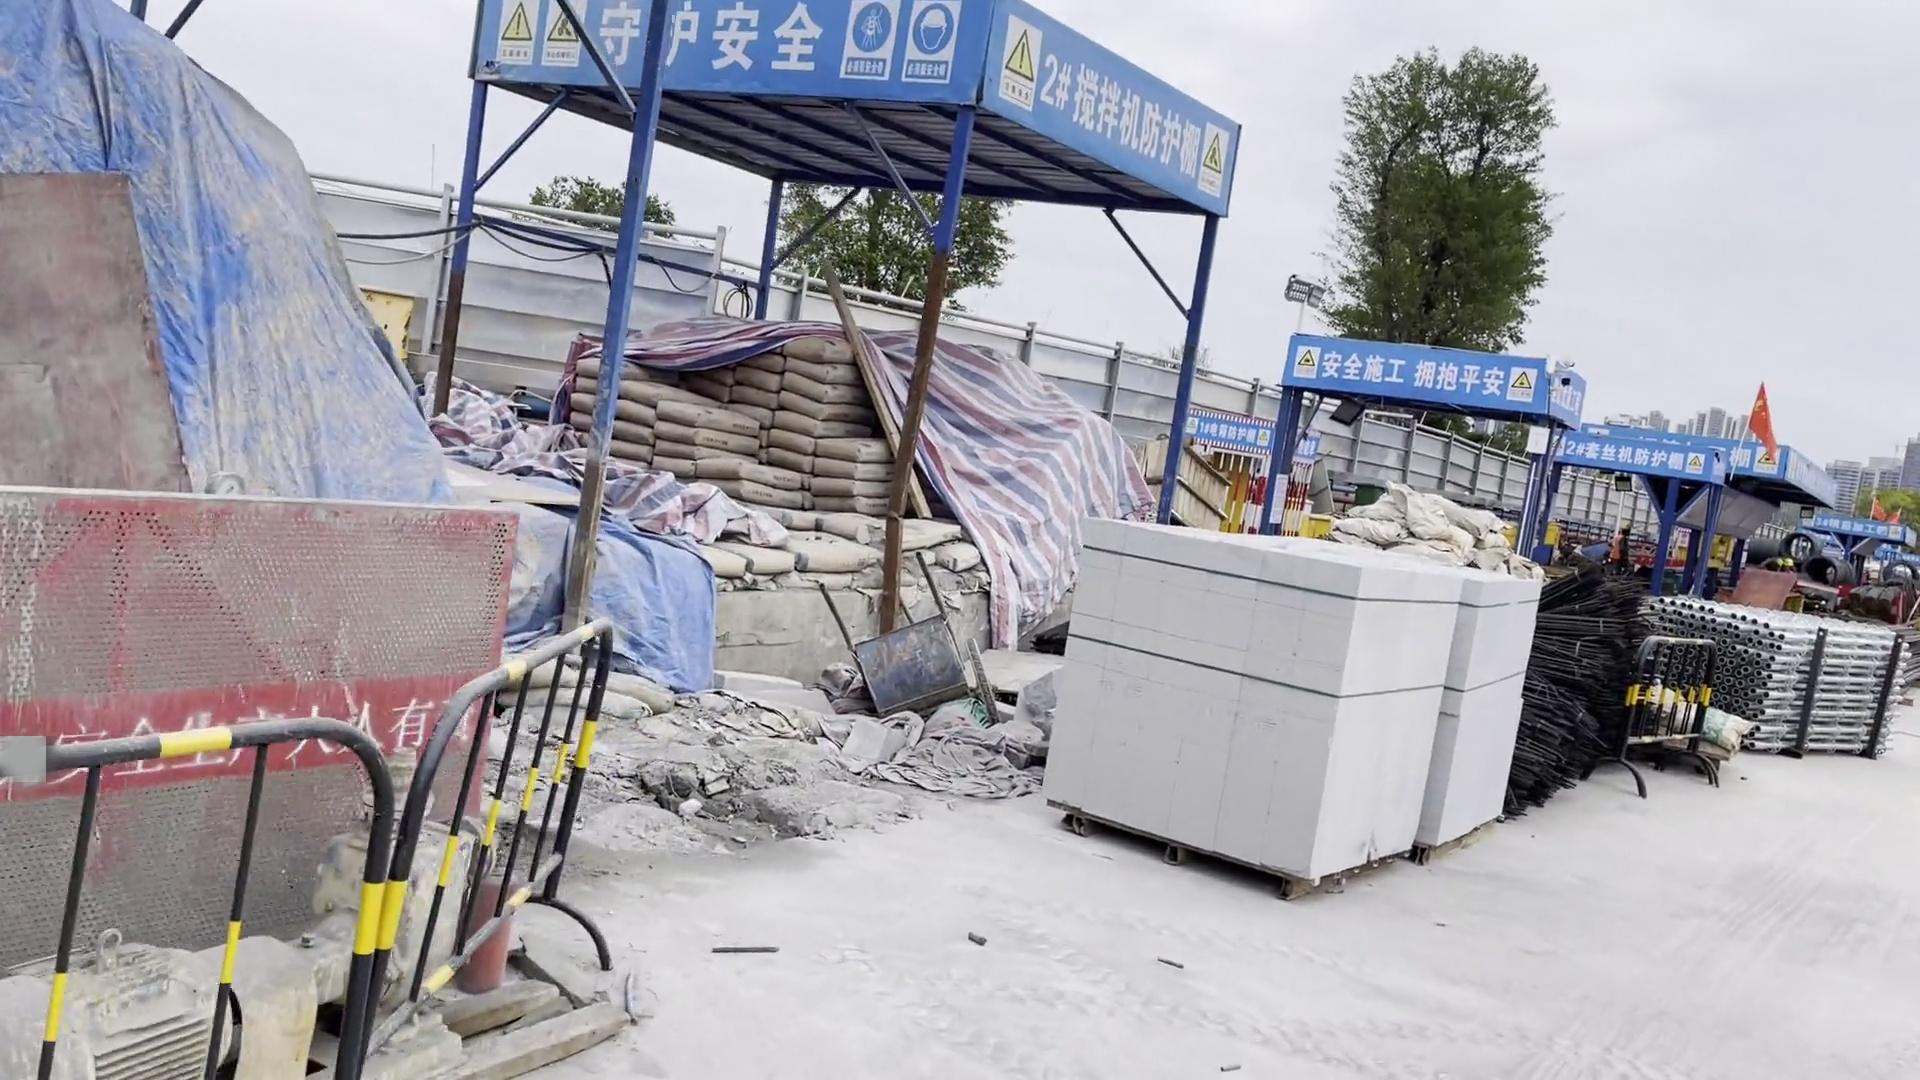brick: (1023, 513, 1564, 895)
scaffold: (1633, 589, 1909, 767)
slogan: (597, 1, 825, 83), (1325, 353, 1513, 398)
